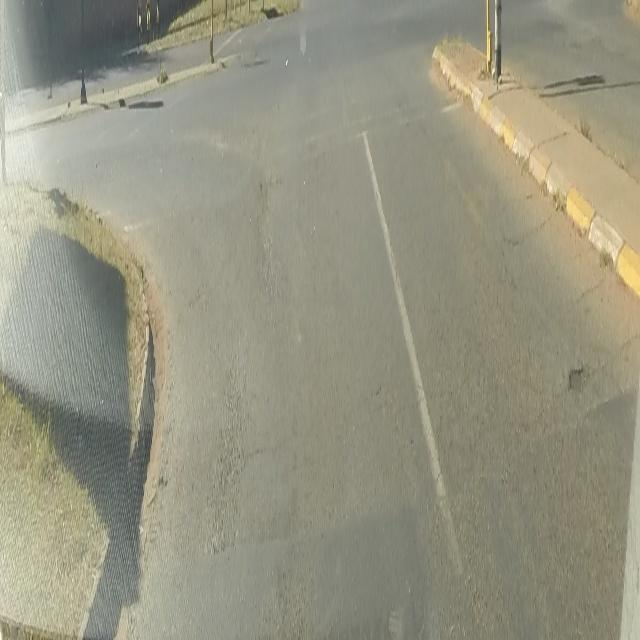pothole: (562, 362, 592, 396)
